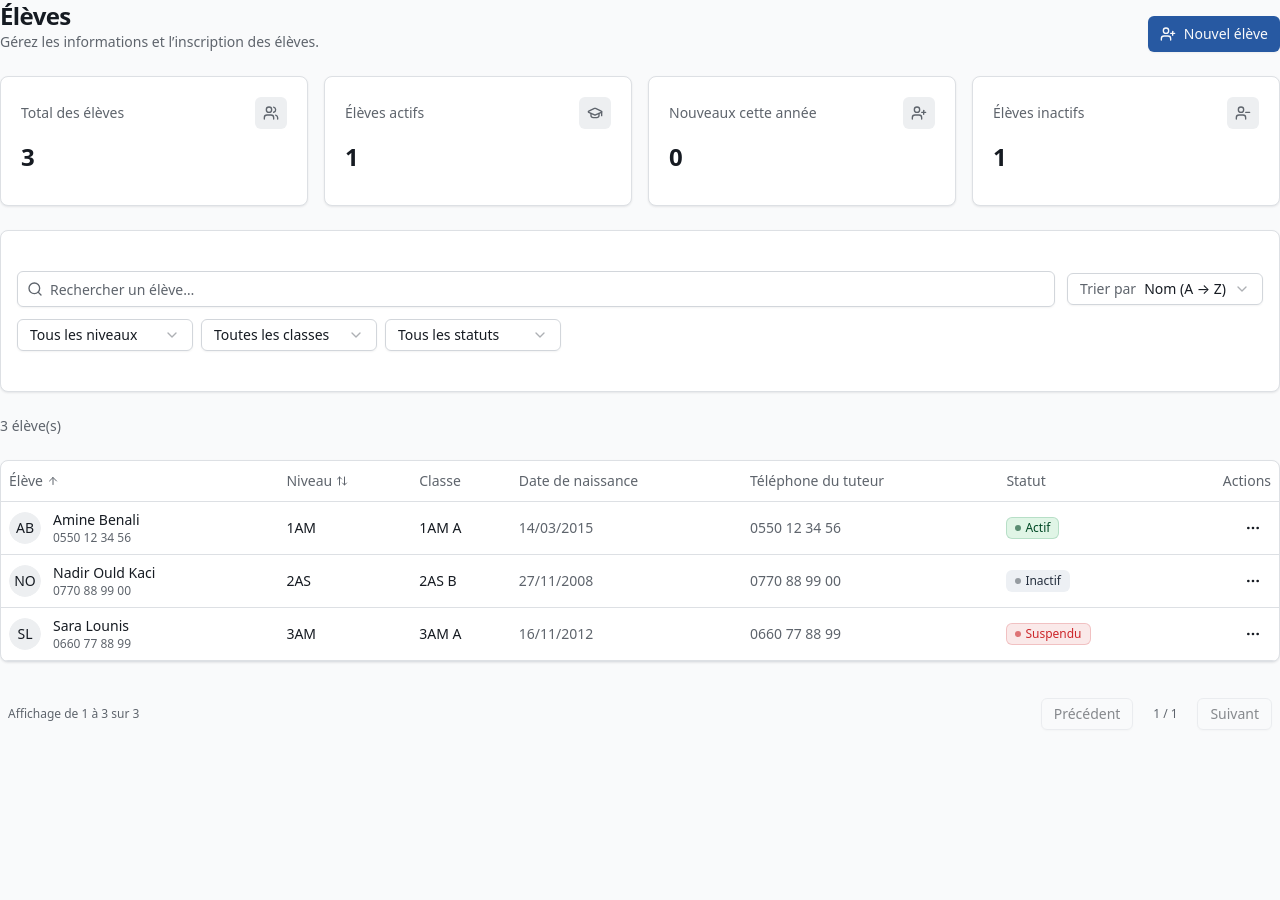
Test: StudentsPage › deletes a student after confirmation
expect the link "Amine Benali" is shown: met, box [53, 510, 140, 528]
Click the button named "Actions" in the row of "AB" at (1253, 528), box [1235, 510, 1271, 546]
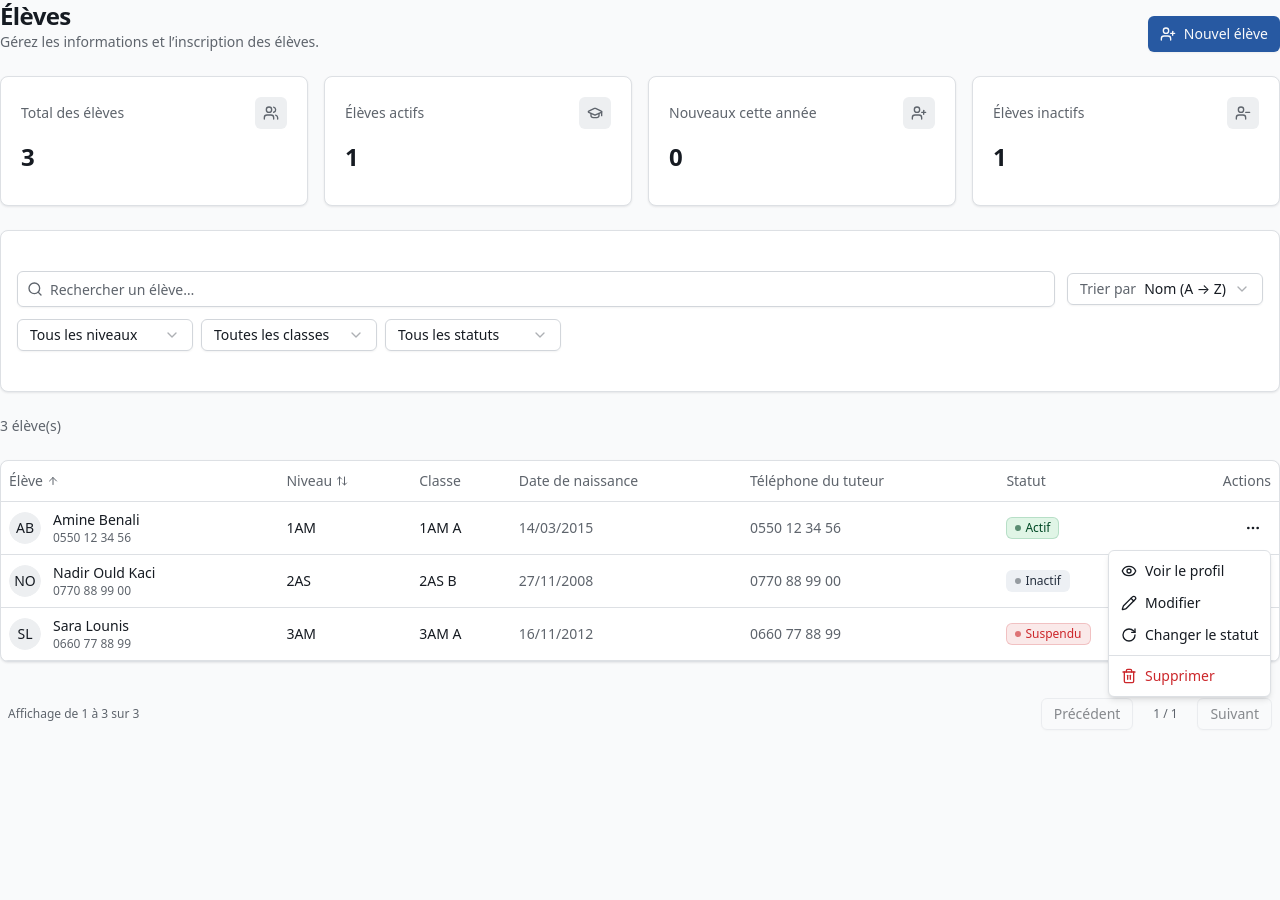
Click the menu item "Supprimer" at (1168, 676), box [1121, 666, 1215, 685]
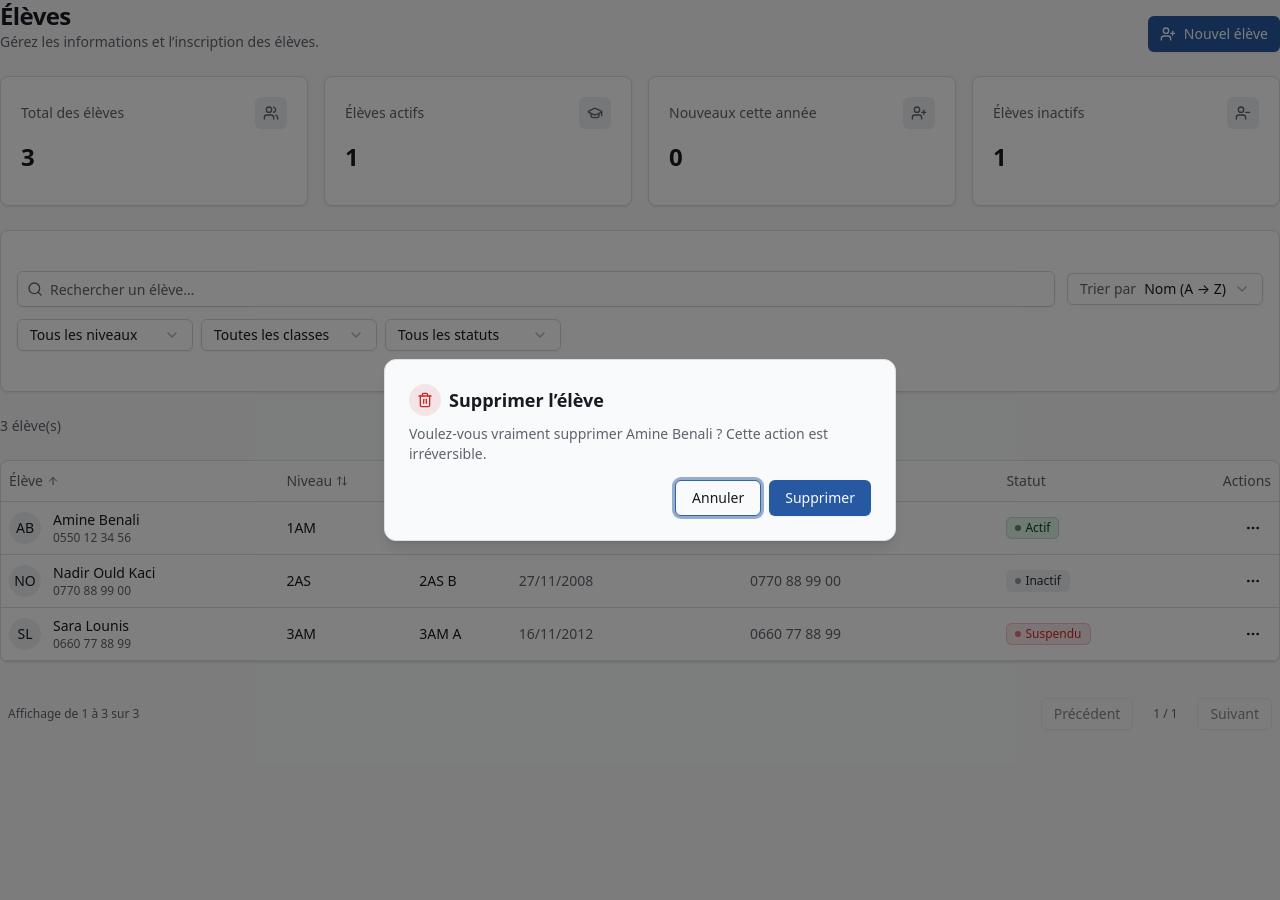
expect the dialog is shown: met, box [384, 359, 896, 541]
Click the button "Supprimer" at (820, 498), box [769, 480, 871, 516]
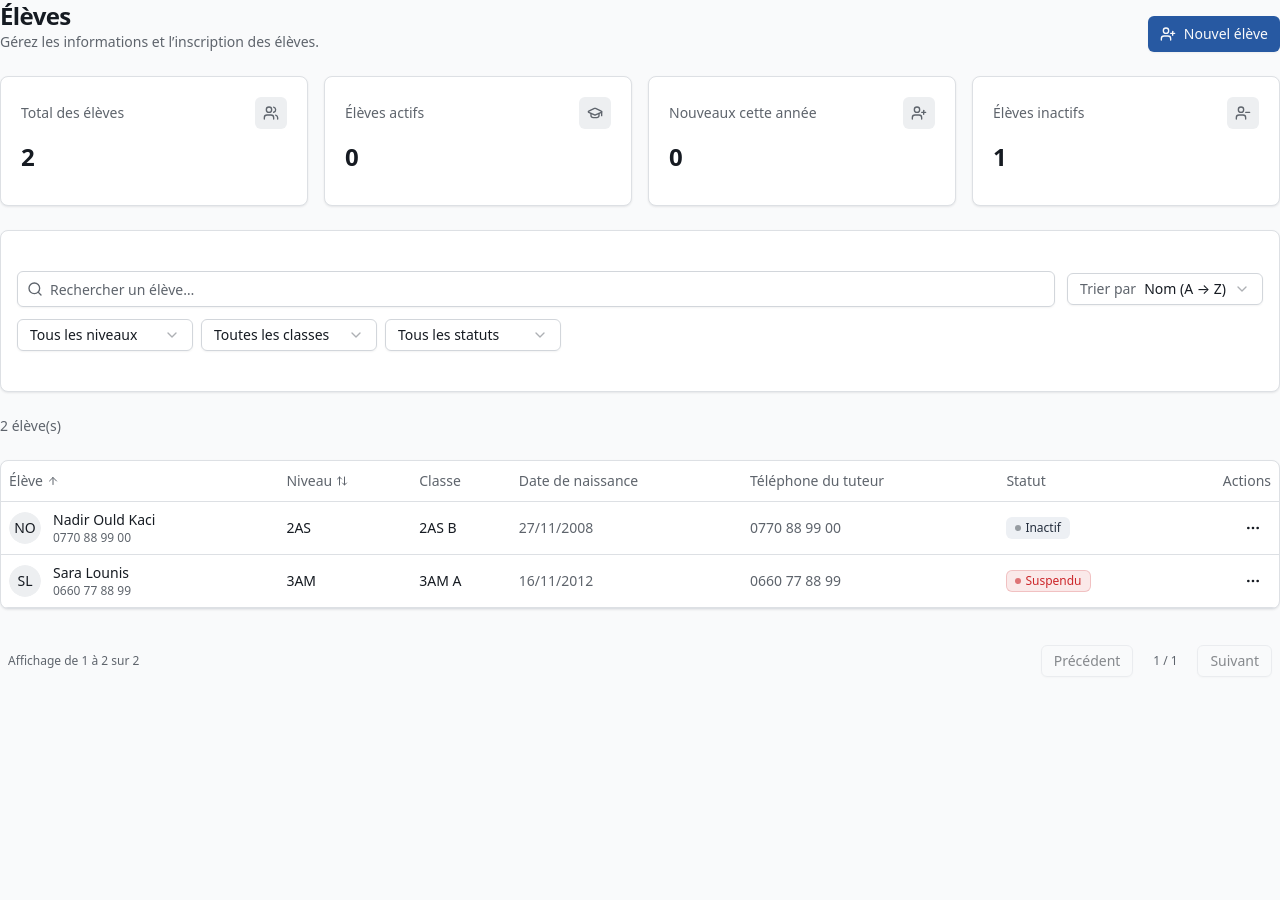
expect the link "Amine Benali" is gone: met
